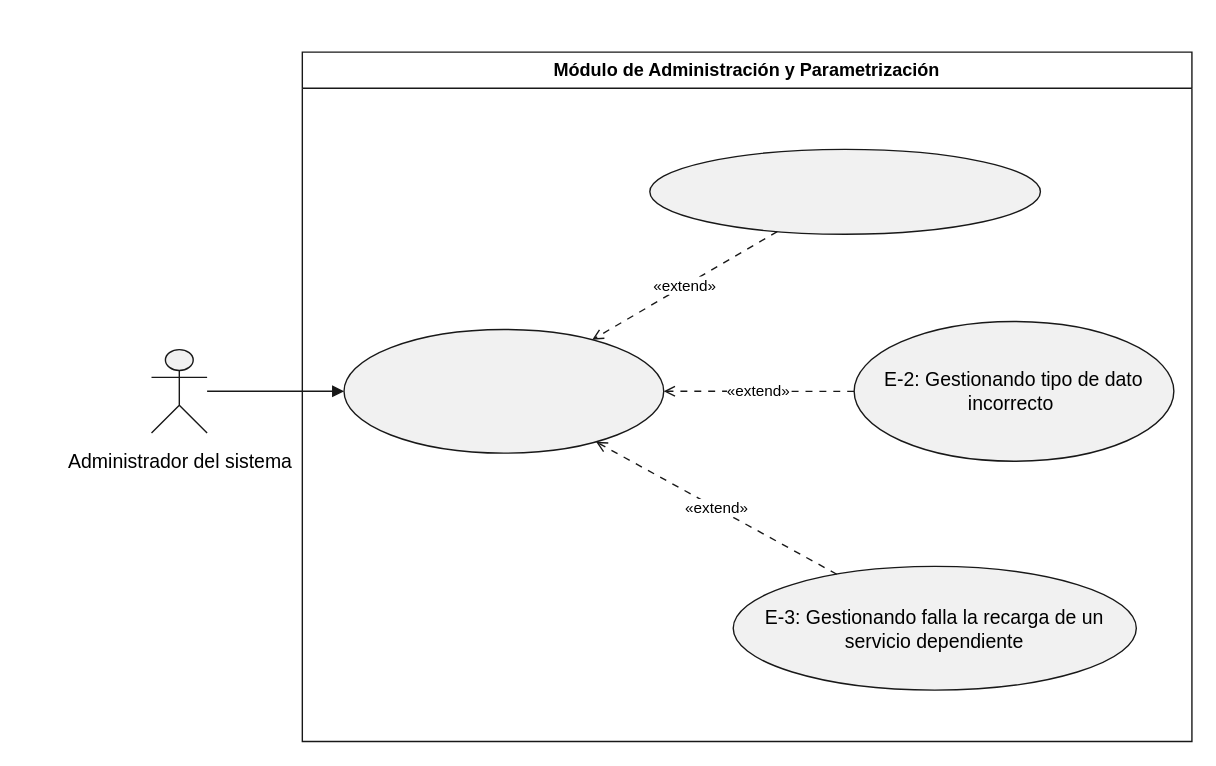
The diagram is 1216 pixels wide and 766 high, and some of its shapes have lost their labels. The shapes that lost their labels are listed below. From the top down, each one's box as (x1, y1, x2, y2) in pixels, then its label:
(648, 148, 1040, 234): E-1: Gestionando valor fuera de rango
(343, 328, 664, 453): CU-41: Configurando variables de entorno de la plataforma
